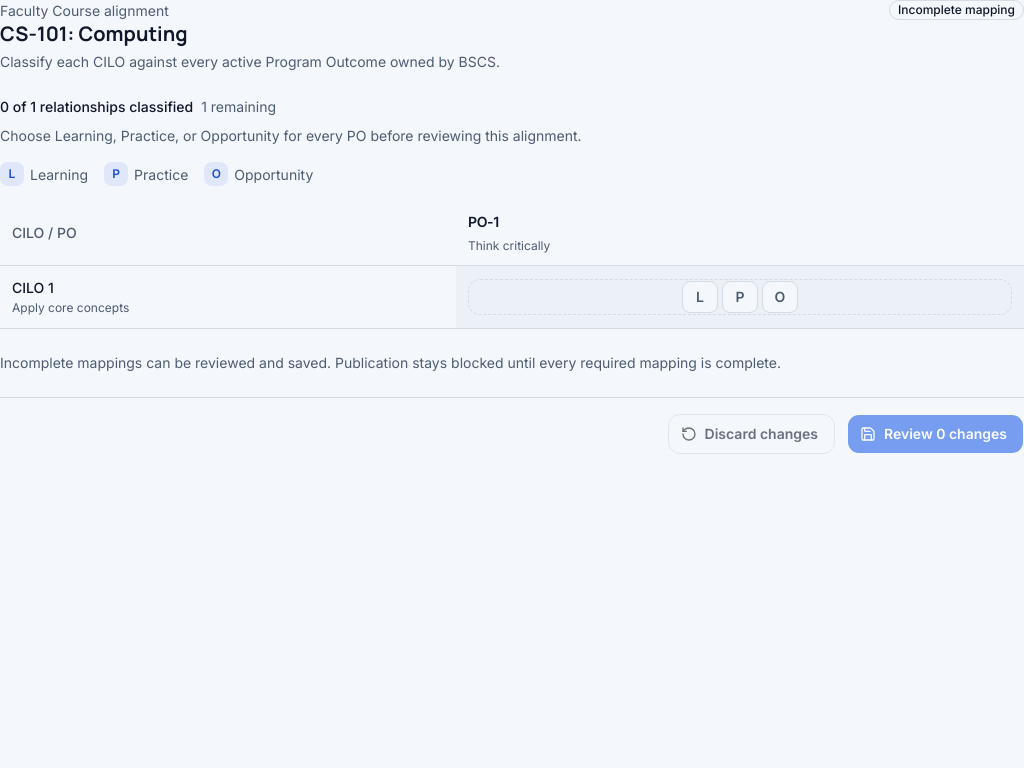
Test: CourseAlignmentEditor › reports a first-time assignment as Set to in the review dialog
This screenshot has width=1024, height=768.
Click the button named "CILO 1, PO 1, manifestation: Opportunity" at (780, 296), box [762, 280, 798, 312]
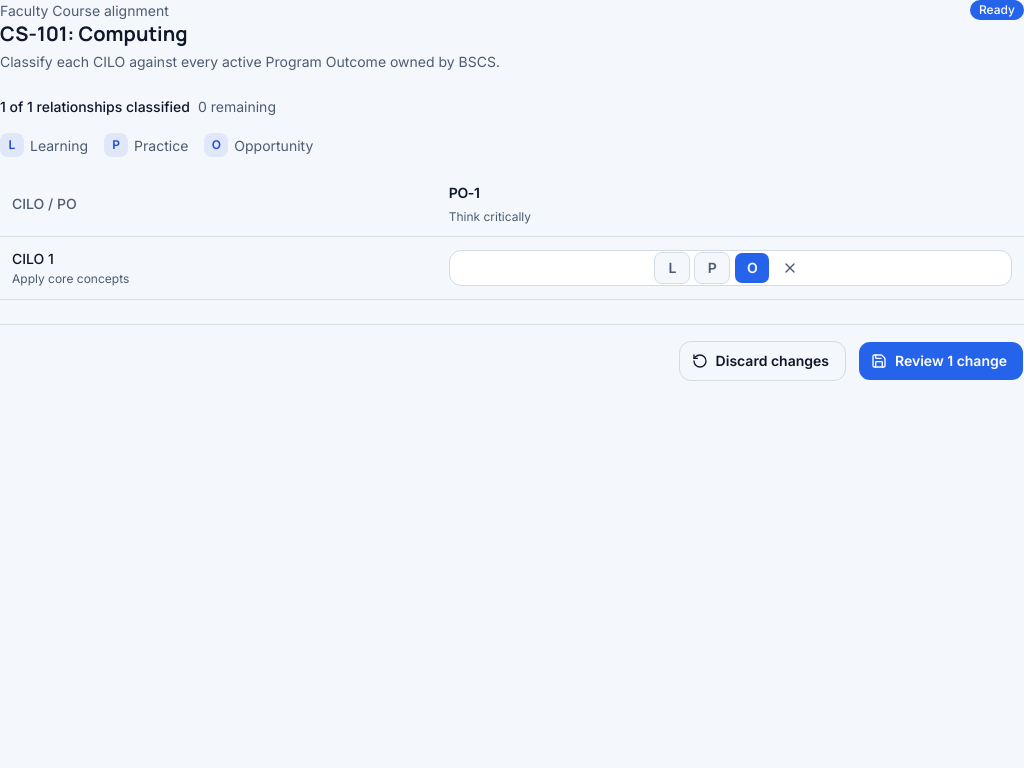
Click the button "Review 1 change" at (941, 360), box [858, 340, 1023, 380]
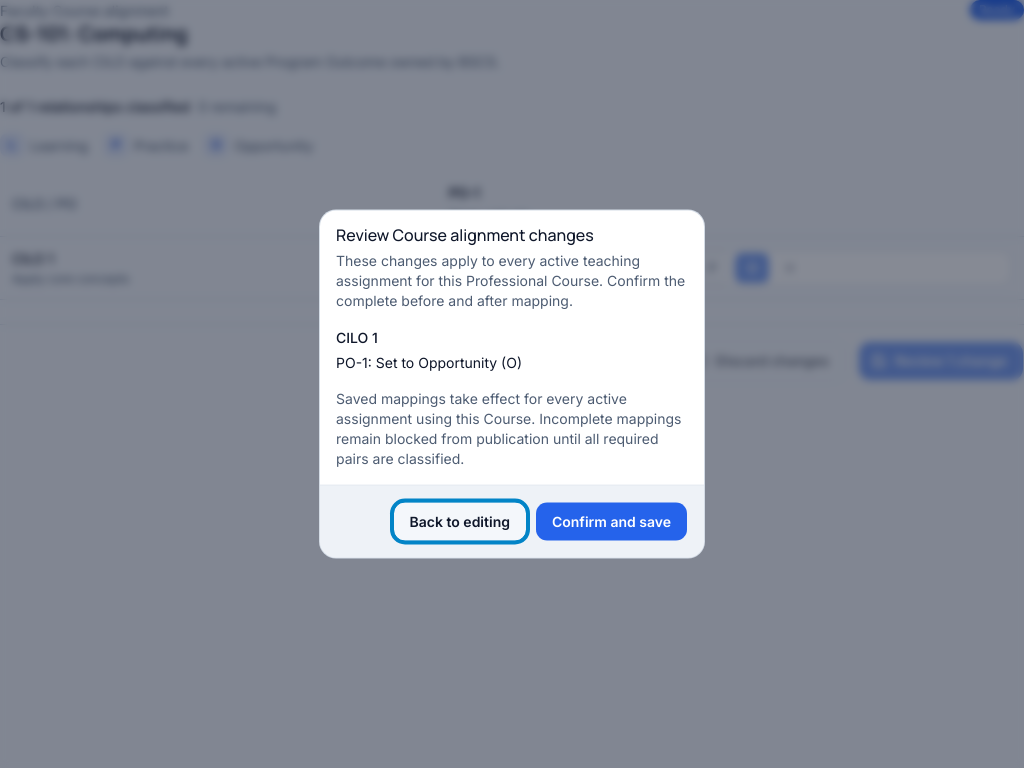
Expected: the heading "Review Course alignment changes" is shown, [336, 224, 594, 246]
Expected: the list item "PO-1: Set to Opportunity (O)" is shown, [336, 354, 522, 370]
